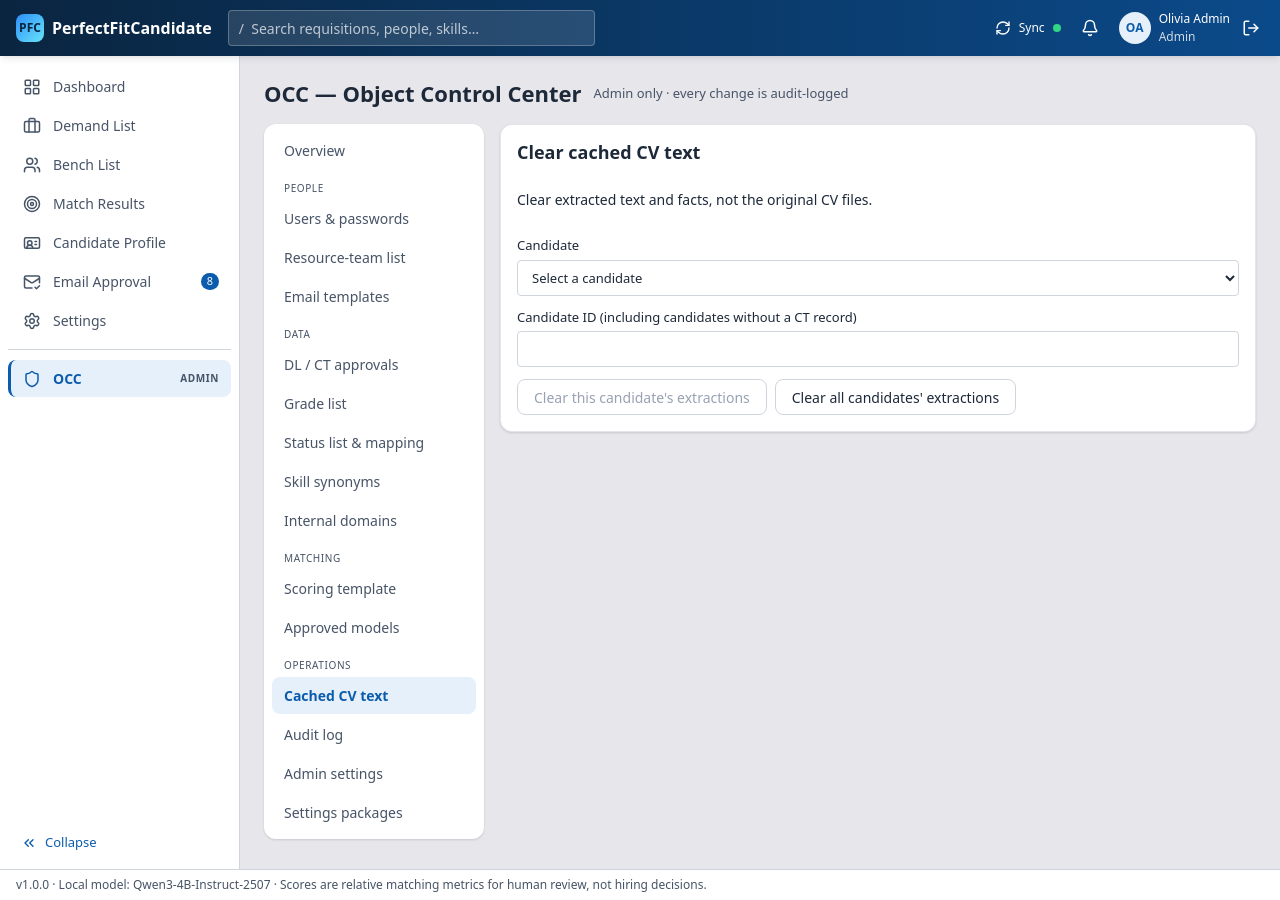
Test: OCC cached CV text › keeps errors in the dialog and allows cancellation
Select "Alex Alexander · ALEXANDER · #1" in the dropdown labelled "Candidate" at (878, 278), box [517,260,1239,296]
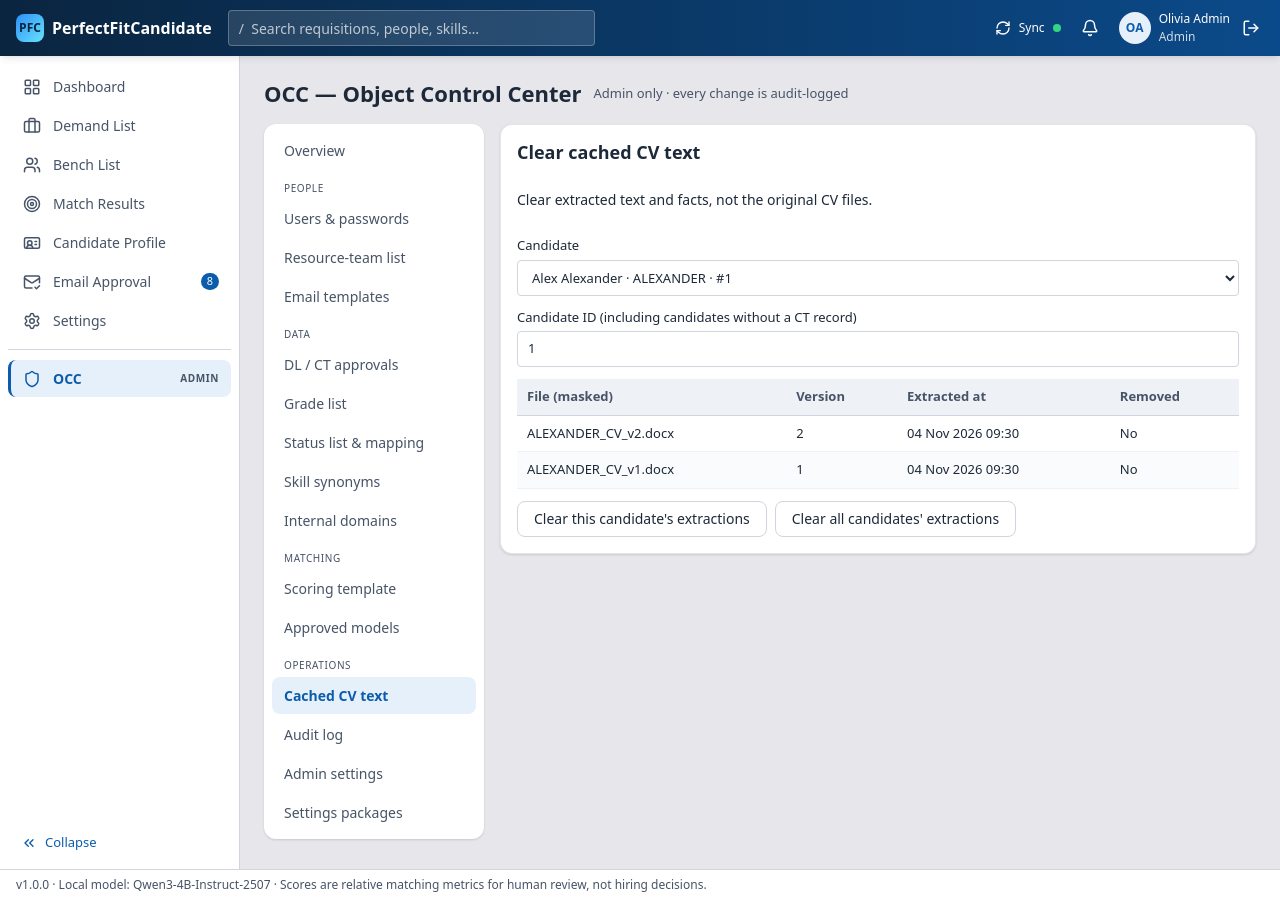
Now the table named "Cached CV extractions" is shown, box [517,379,1239,488]
Click the button "Clear all candidates' extractions".
click(896, 518)  # box [775,500,1016,536]
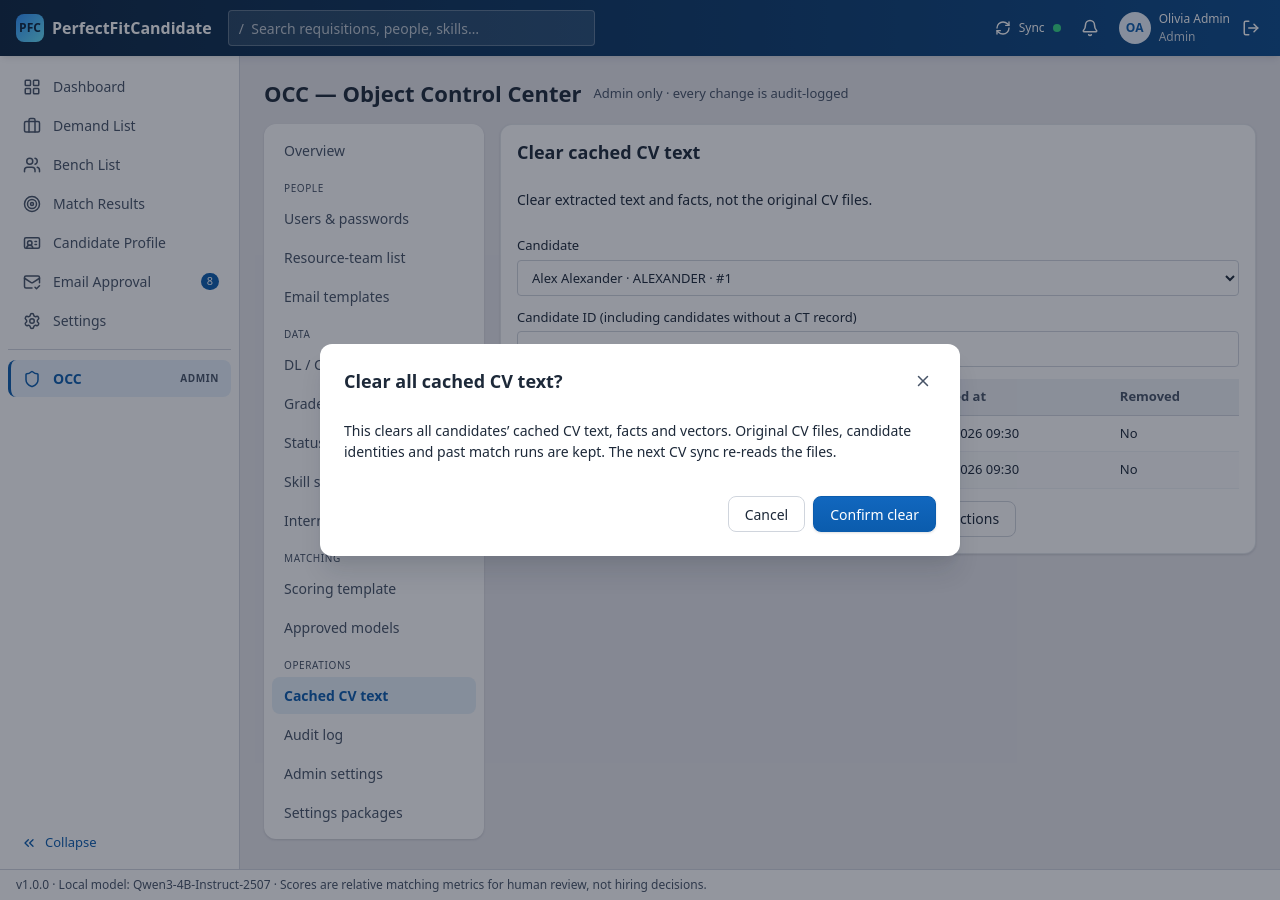
Click the button "Confirm clear".
click(875, 514)  # box [813,496,936,532]
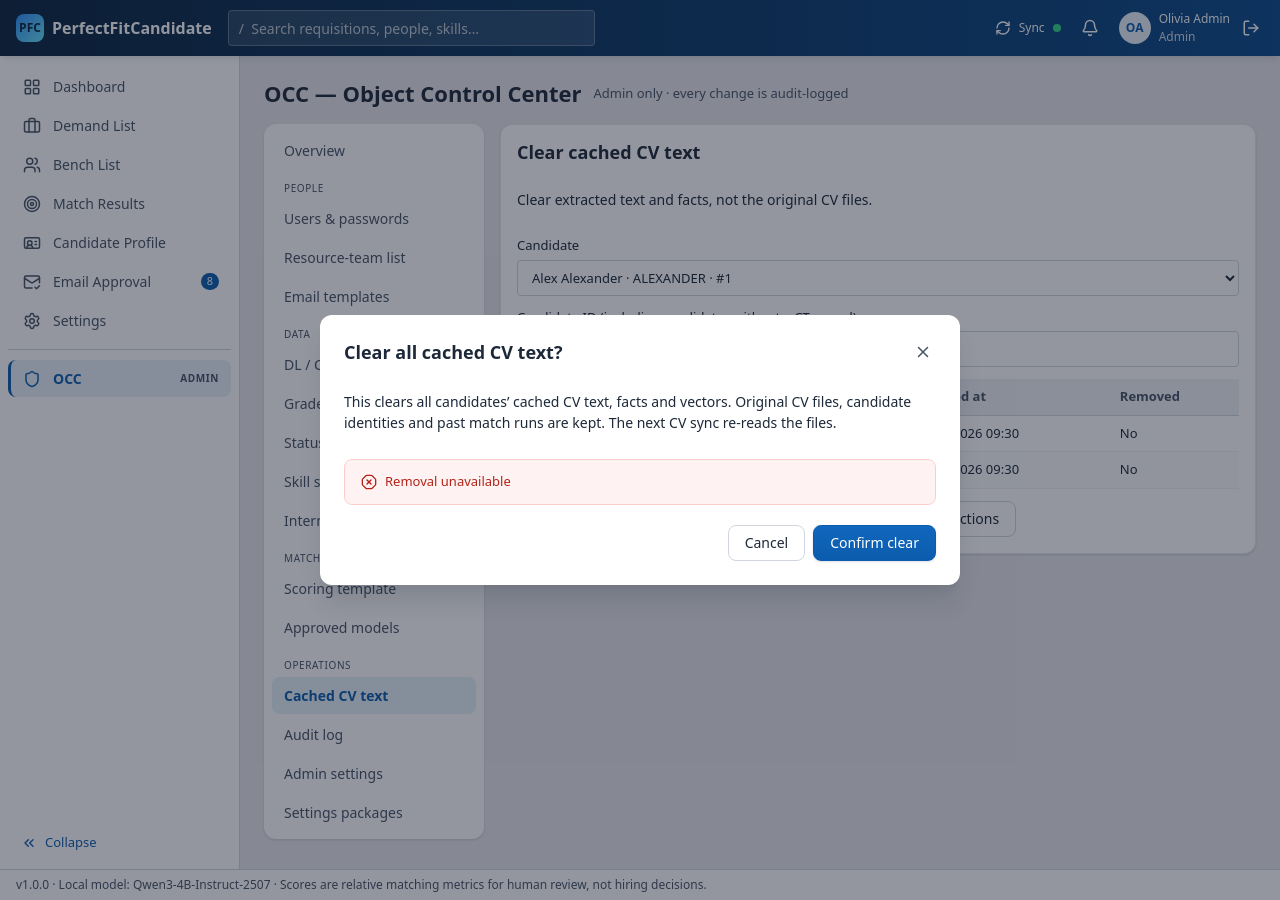
Now the text "Removal unavailable" is shown, box [385,472,511,492]
Click the button "Cancel".
click(766, 543)  # box [728,525,805,561]
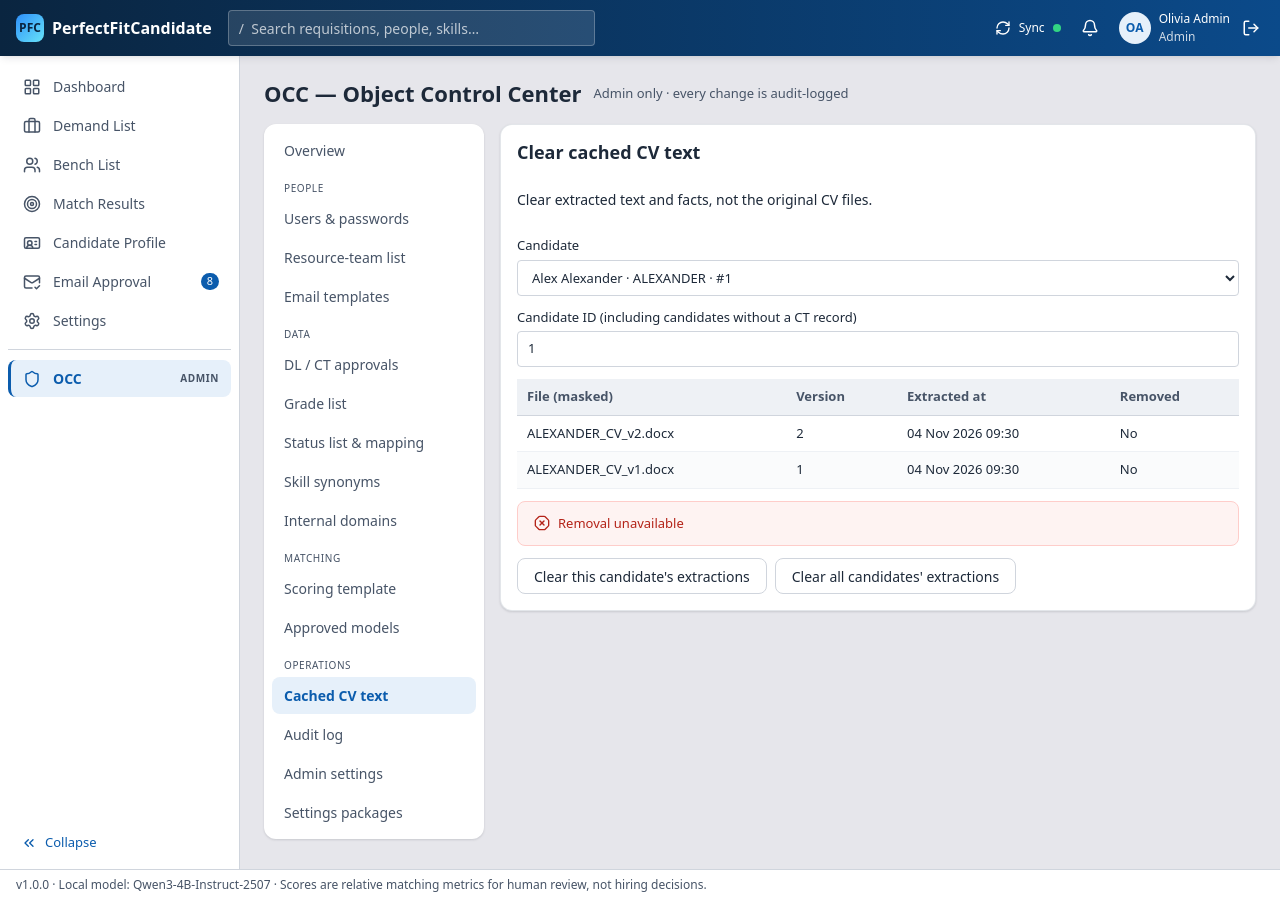
Now the dialog is gone
